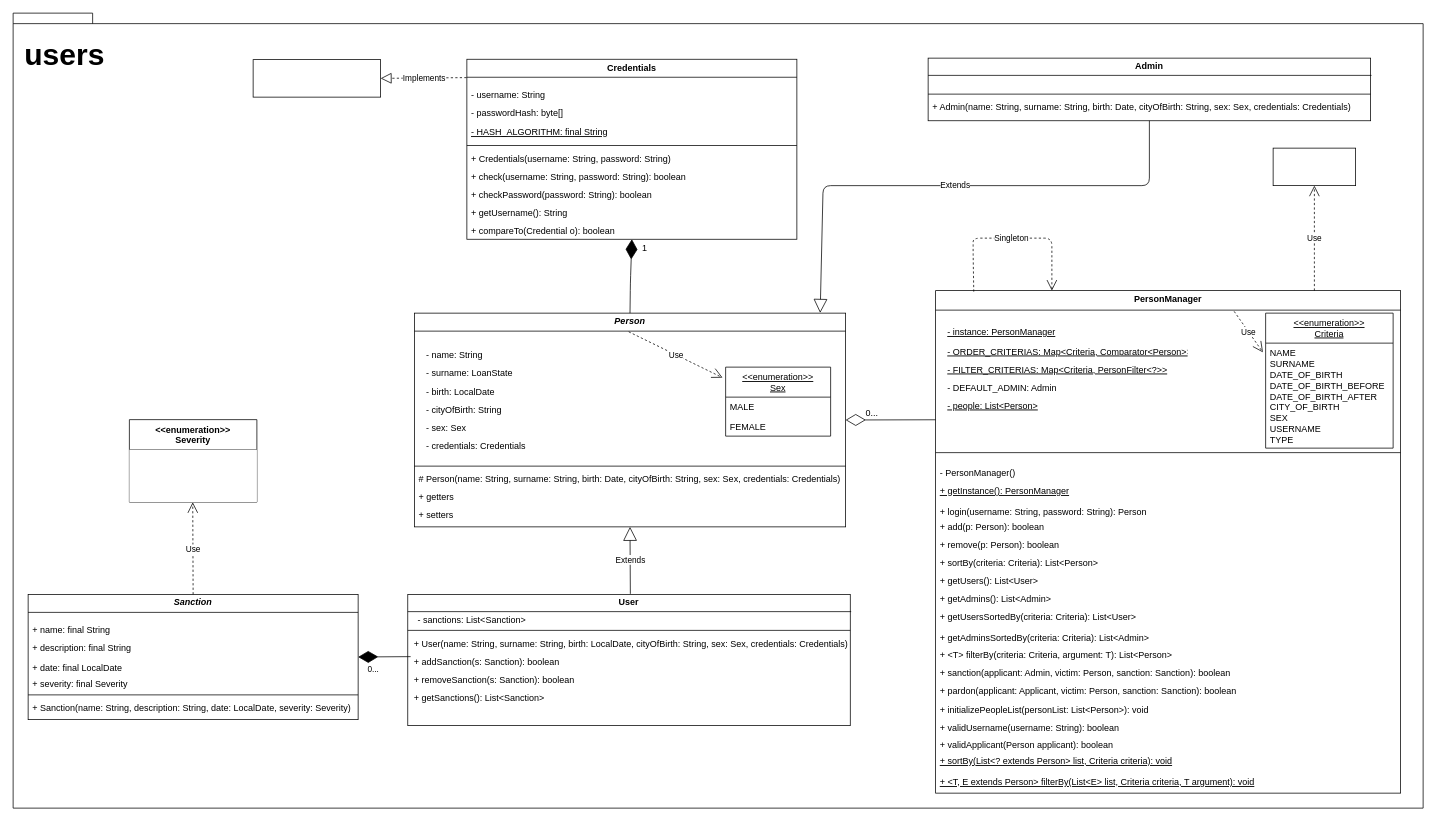
Image size: 1436x821. Some labels were removed from this diagram. Each missing label, with the centre of its shape:
"LOW MEDIUM HIGH WORST" goes at point 192,475.
"«interface» Comparable<Credentials>" goes at point 316,78.
"«interface» PersonFilter" goes at point 1314,166.
